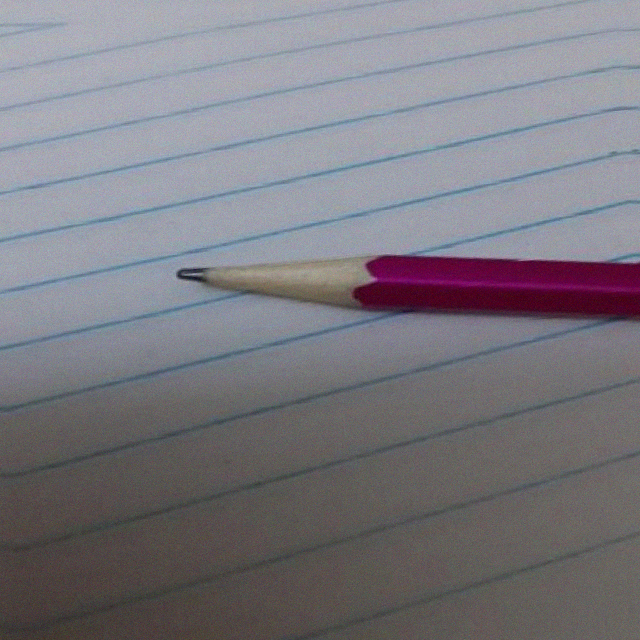pencil: (176, 235, 395, 316)
